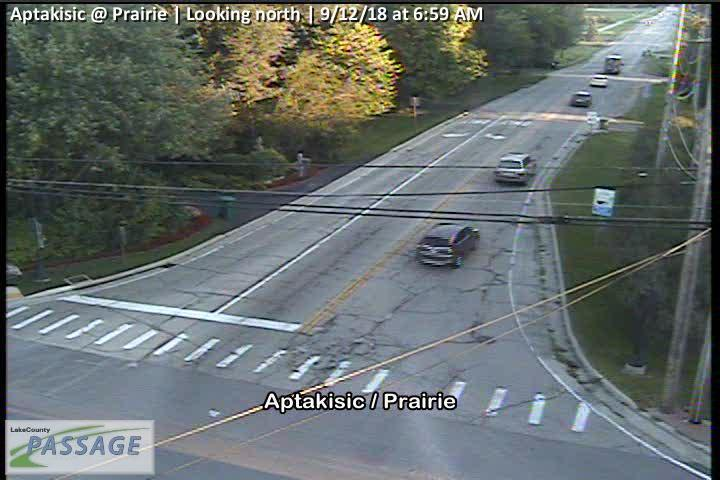SUV: (416, 222, 479, 268), (494, 151, 533, 185)
Sedan: (570, 91, 592, 107), (590, 74, 608, 87)
